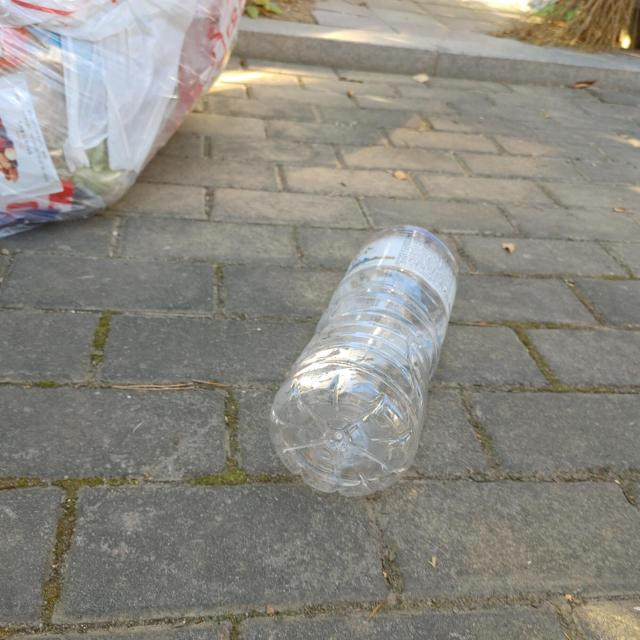plastic: (269, 226, 459, 497)
